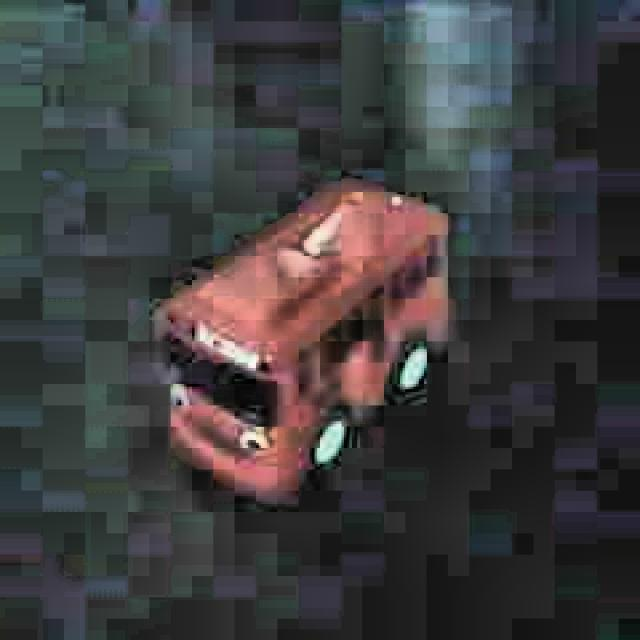bus: (138, 170, 474, 520)
